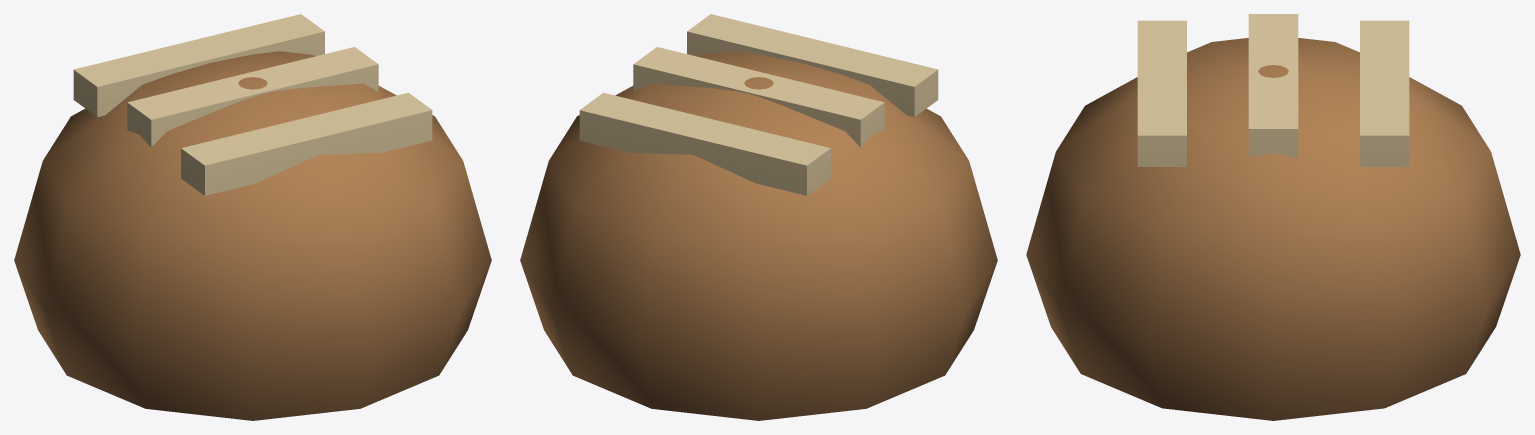
The model's file is Bread_Round_01.glb.
The picture shows the model from 3 angles, left to right: view 1: azimuth 30°, elevation 25°; view 2: azimuth 150°, elevation 25°; view 3: azimuth 270°, elevation 25°; orthographic projection. The views are drawn at different scales.
Visible parts, largest first — view 1: SM_Bread_Round_01; view 2: SM_Bread_Round_01; view 3: SM_Bread_Round_01.
Boxes of the visible parts, x1,y1,x2,y2 form: SM_Bread_Round_01: (14,14,491,420); SM_Bread_Round_01: (520,14,997,420); SM_Bread_Round_01: (1026,14,1520,420).
Bounding box in the file's own units: 0.2 × 0.115 × 0.2.
Materials: 1 (1 with a texture image).
